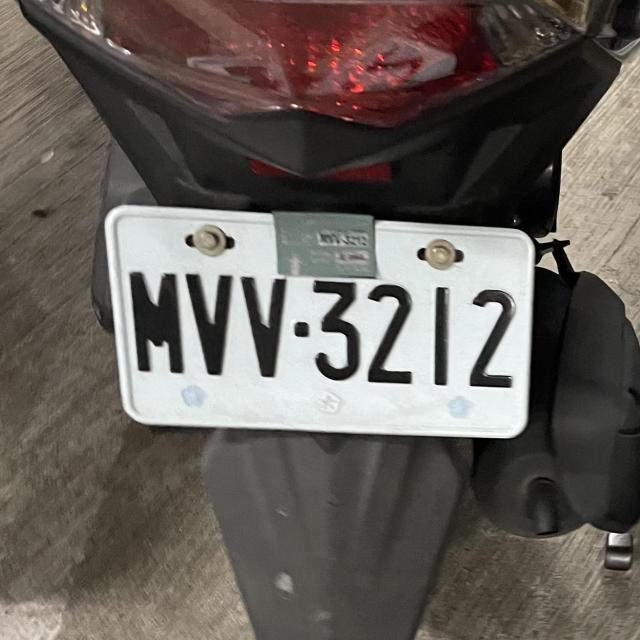W: (92, 183, 546, 452)
